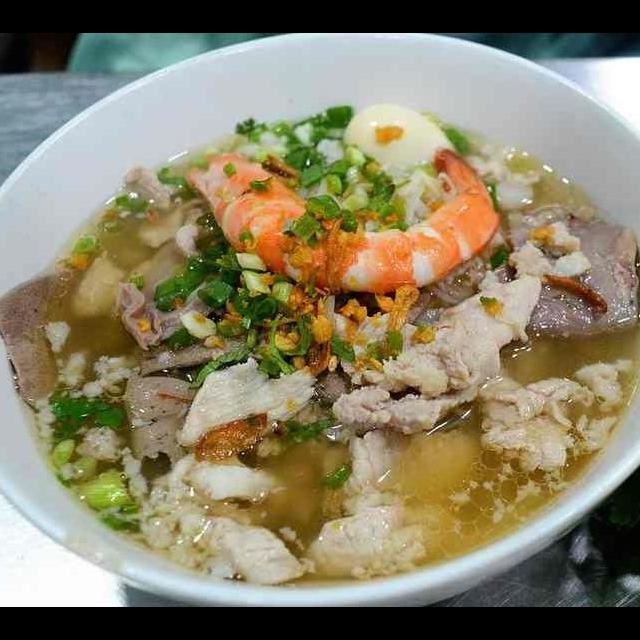gan: (488, 200, 640, 343), (0, 256, 90, 421), (111, 365, 214, 466)
thit bam: (64, 422, 237, 582), (31, 348, 155, 504)
thit heo: (325, 265, 551, 439), (294, 421, 441, 583), (173, 358, 321, 459), (166, 500, 319, 592), (465, 373, 596, 478)
tom: (179, 131, 500, 303)
trung: (337, 99, 465, 188)
